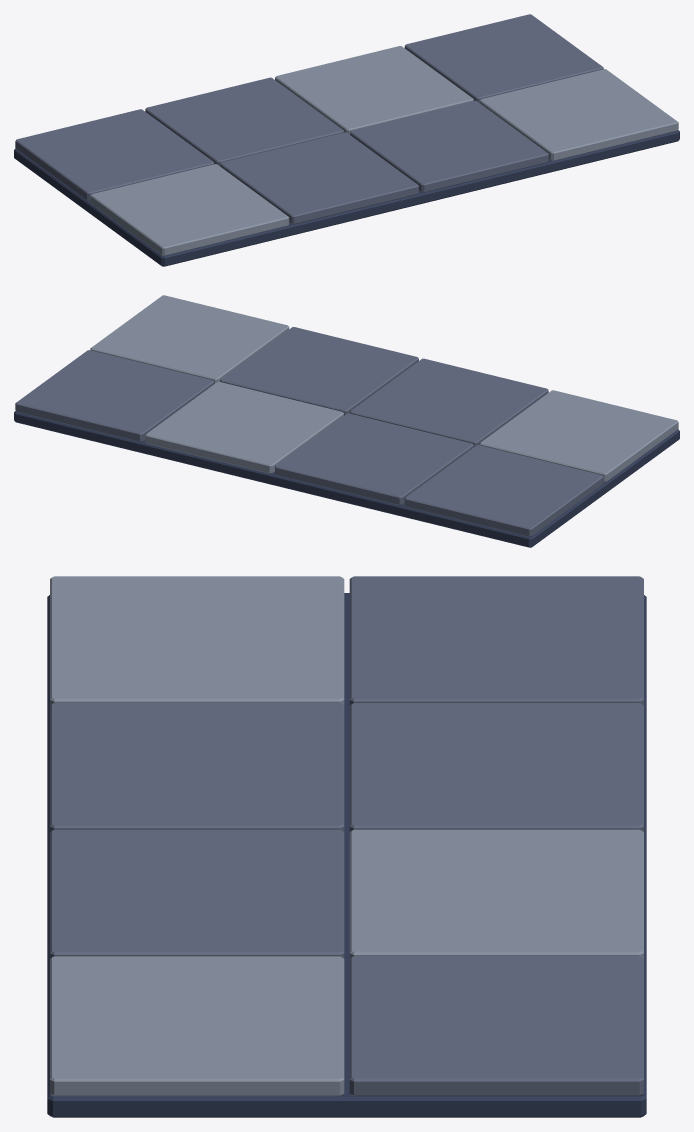
The model's file is floor-large.glb.
3 renders of one model, top to bottom at view 1: azimuth 30°, elevation 25°; view 2: azimuth 150°, elevation 25°; view 3: azimuth 270°, elevation 25°, orthographic. The views are drawn at different scales.
Visible parts, largest first — view 1: floor-large__body; view 2: floor-large__body; view 3: floor-large__body.
Boxes of the visible parts, <box> form: floor-large__body: <box>14,14,679,266</box>; floor-large__body: <box>14,295,679,547</box>; floor-large__body: <box>47,576,646,1117</box>.
Size of the model in its own units: 4 by 0.14 by 2.
